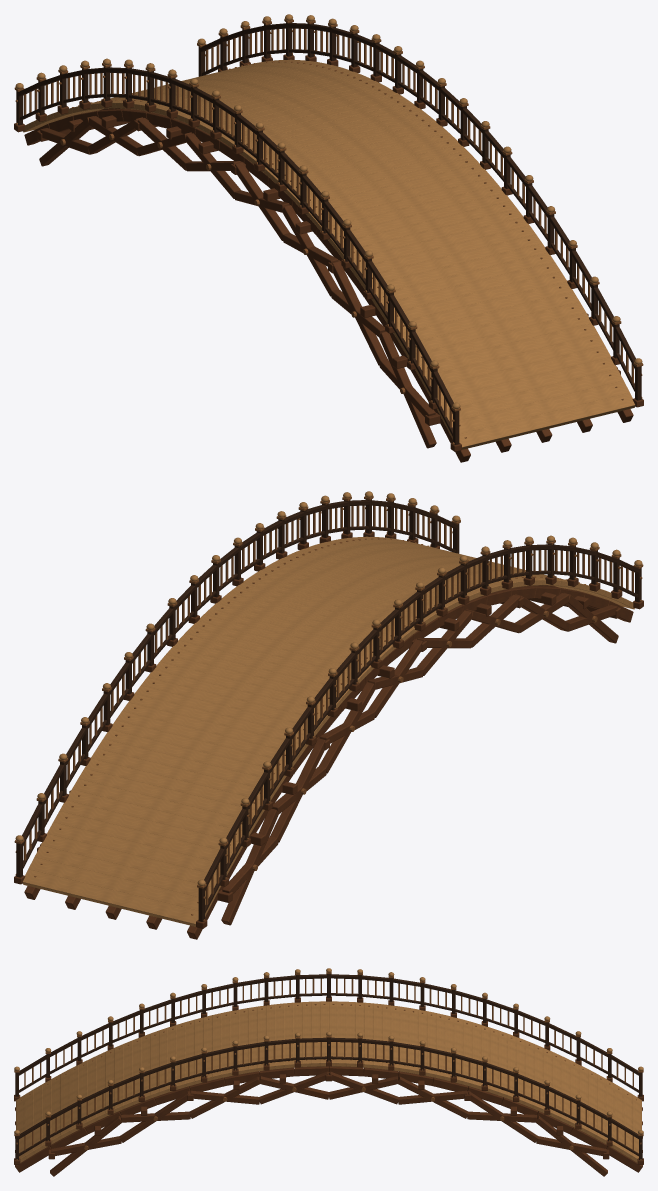
File: hongqiao-refined.glb
The picture shows the model from 3 angles, top to bottom: view 1: azimuth 30°, elevation 25°; view 2: azimuth 150°, elevation 25°; view 3: azimuth 270°, elevation 25°; orthographic projection. The views are drawn at different scales.
Parts seen in each view (by area): view 1: 虹桥-浅木桥板, 虹桥-暖棕拱架, 虹桥-深木栏杆, 虹桥-木销端面; view 2: 虹桥-浅木桥板, 虹桥-暖棕拱架, 虹桥-深木栏杆, 虹桥-木销端面; view 3: 虹桥-浅木桥板, 虹桥-暖棕拱架, 虹桥-深木栏杆, 虹桥-木销端面.
Part boxes in pixels (<box>): 虹桥-浅木桥板: <box>15,14,642,449</box>; 虹桥-暖棕拱架: <box>14,54,643,462</box>; 虹桥-深木栏杆: <box>16,22,641,444</box>; 虹桥-木销端面: <box>14,18,643,444</box>; 虹桥-浅木桥板: <box>15,491,642,926</box>; 虹桥-暖棕拱架: <box>14,531,643,939</box>; 虹桥-深木栏杆: <box>16,499,641,921</box>; 虹桥-木销端面: <box>14,495,643,921</box>; 虹桥-浅木桥板: <box>14,968,643,1162</box>; 虹桥-暖棕拱架: <box>14,996,643,1176</box>; 虹桥-深木栏杆: <box>15,974,642,1159</box>; 虹桥-木销端面: <box>14,972,643,1160</box>.
Size of the model in its own units: 6.95 by 6.86 by 27.27.
4 materials, 4 textured.
